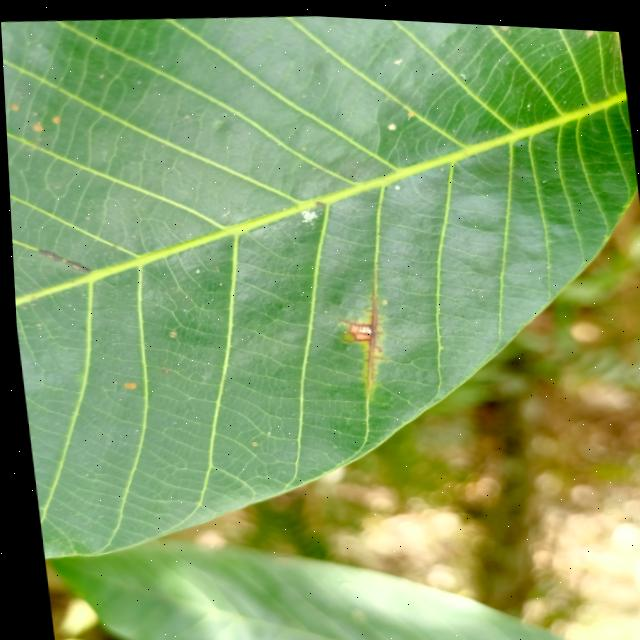Corynespora: (335, 289, 387, 387)
